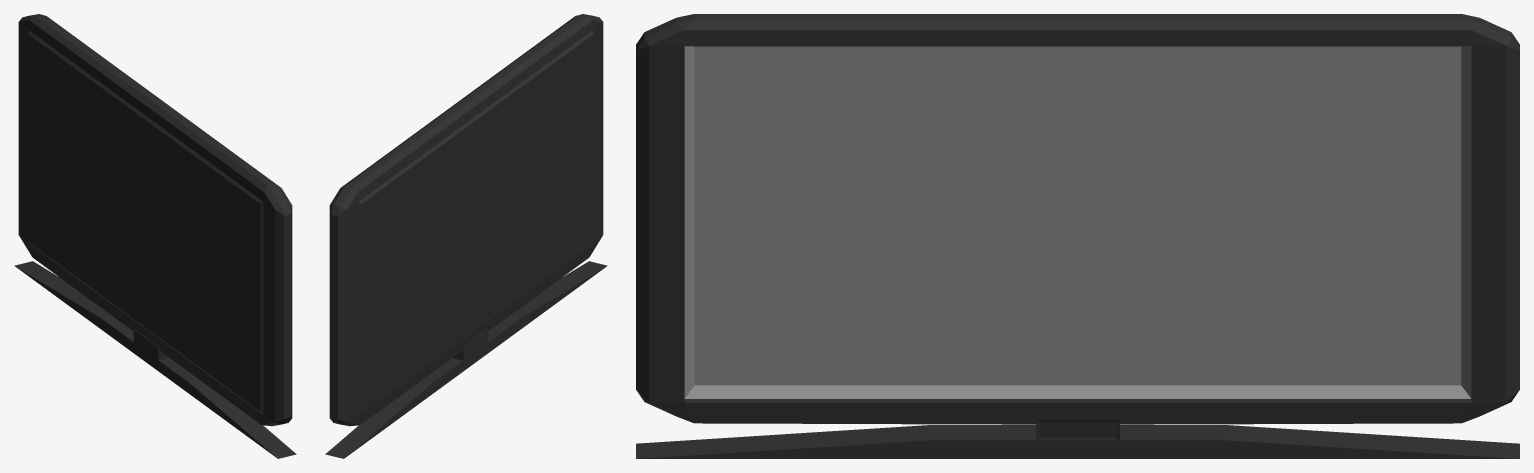
Rendered from Smart TV.glb.
The picture shows the model from 3 angles, left to right: view 1: azimuth 30°, elevation 25°; view 2: azimuth 150°, elevation 25°; view 3: azimuth 270°, elevation 25°; orthographic projection. The views are drawn at different scales.
Parts seen in each view (by area): view 1: Cube; view 2: Cube; view 3: Cube.
Boxes of the visible parts, x1=… form: Cube: x1=14, y1=14, x2=296, y2=458; Cube: x1=325, y1=14, x2=607, y2=458; Cube: x1=636, y1=14, x2=1519, y2=458.
Size of the model in its own units: 0.0318 by 0.3799 by 0.7003.
Materials: 1 (1 with a texture image).
